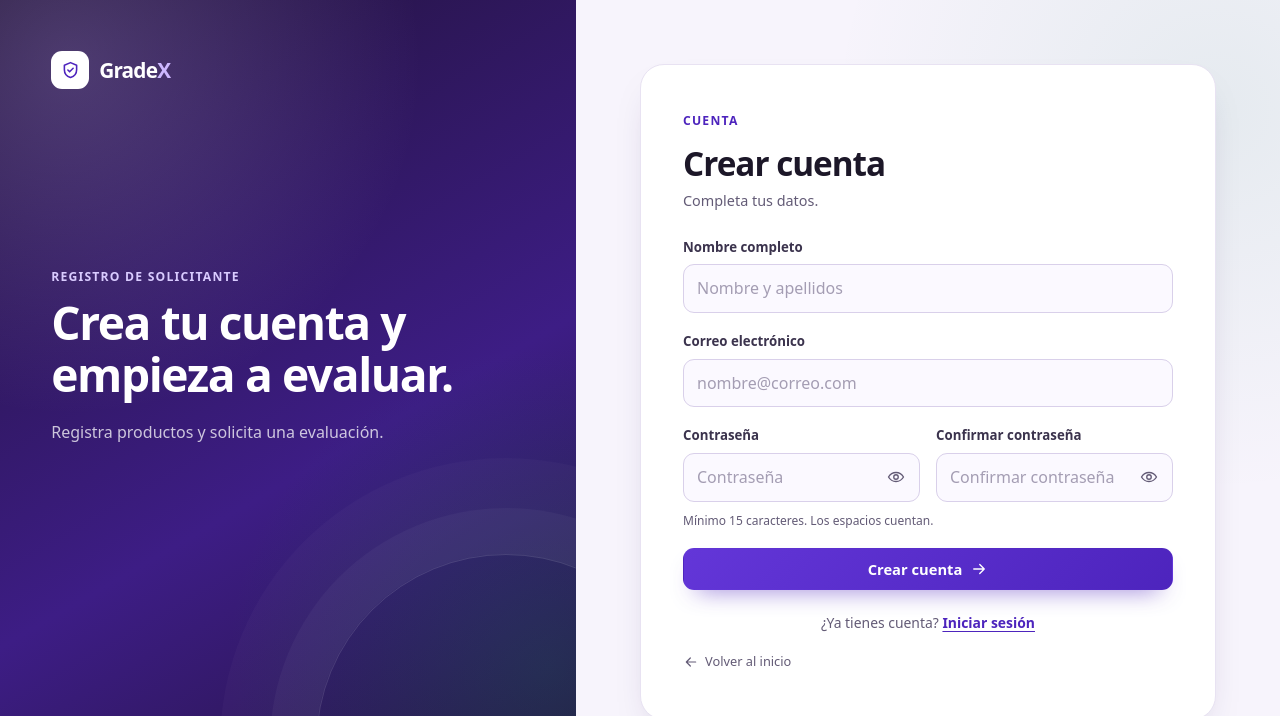
it: RegisterPage › muestra el error de correo duplicado en el campo
In the field labelled "Nombre completo": (928, 289) [683,264,1173,313], type "Cuenta de prueba"
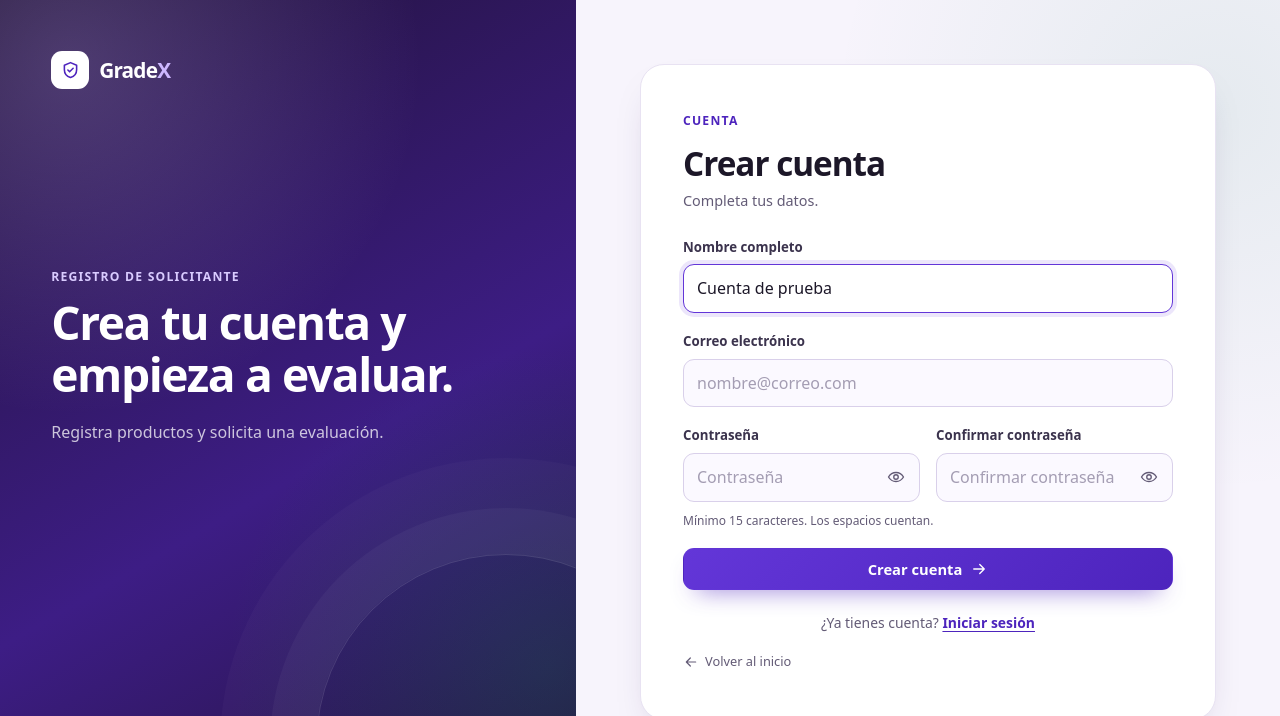
In the field labelled "Correo electrónico": (928, 383) [683,359,1173,408], type "cuenta@example.com"
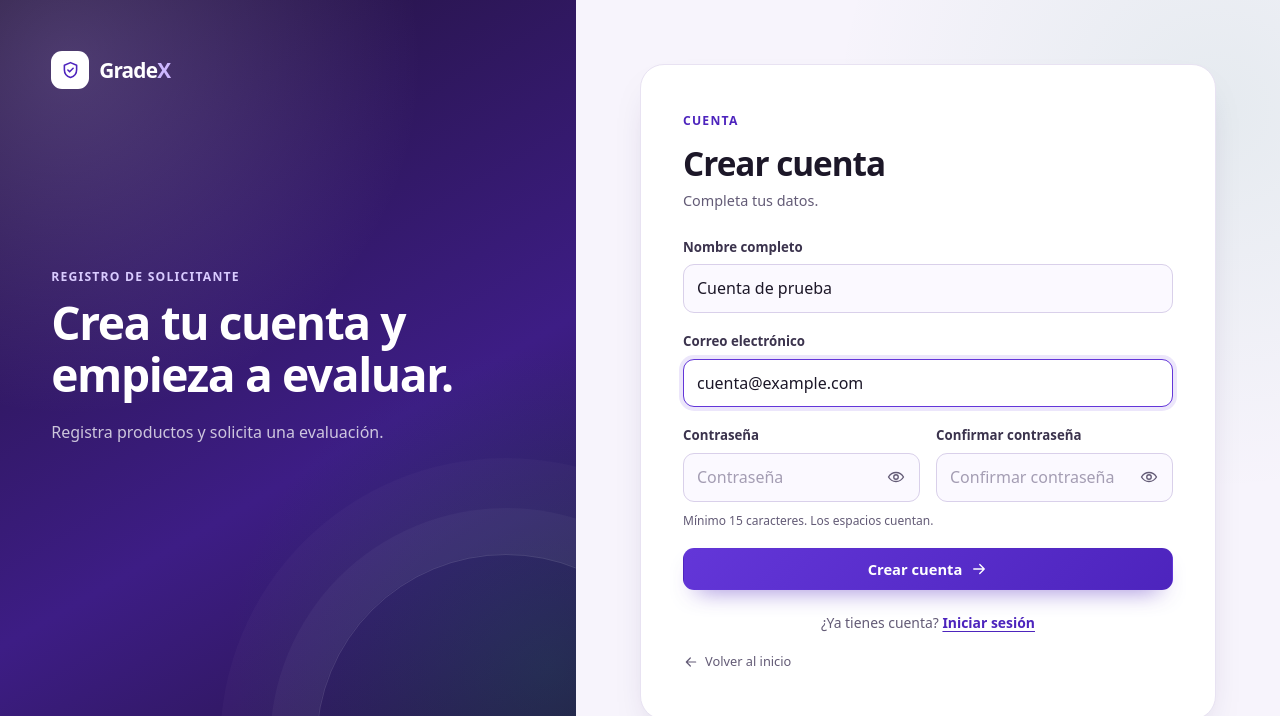
In the password field labelled "Contraseña": (802, 477) [683,453,920,502], type "Contraseña de prueba 2026"
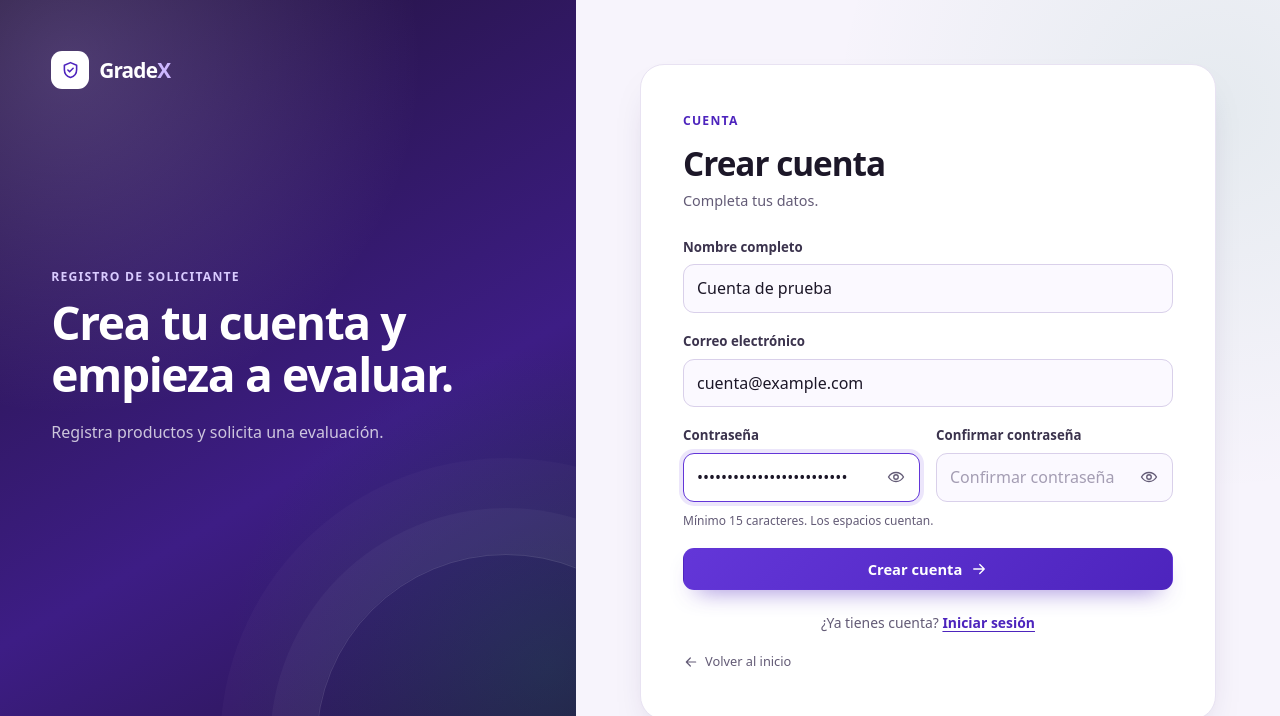
In the password field labelled "Confirmar contraseña": (1054, 477) [936,453,1173,502], type "Contraseña de prueba 2026"
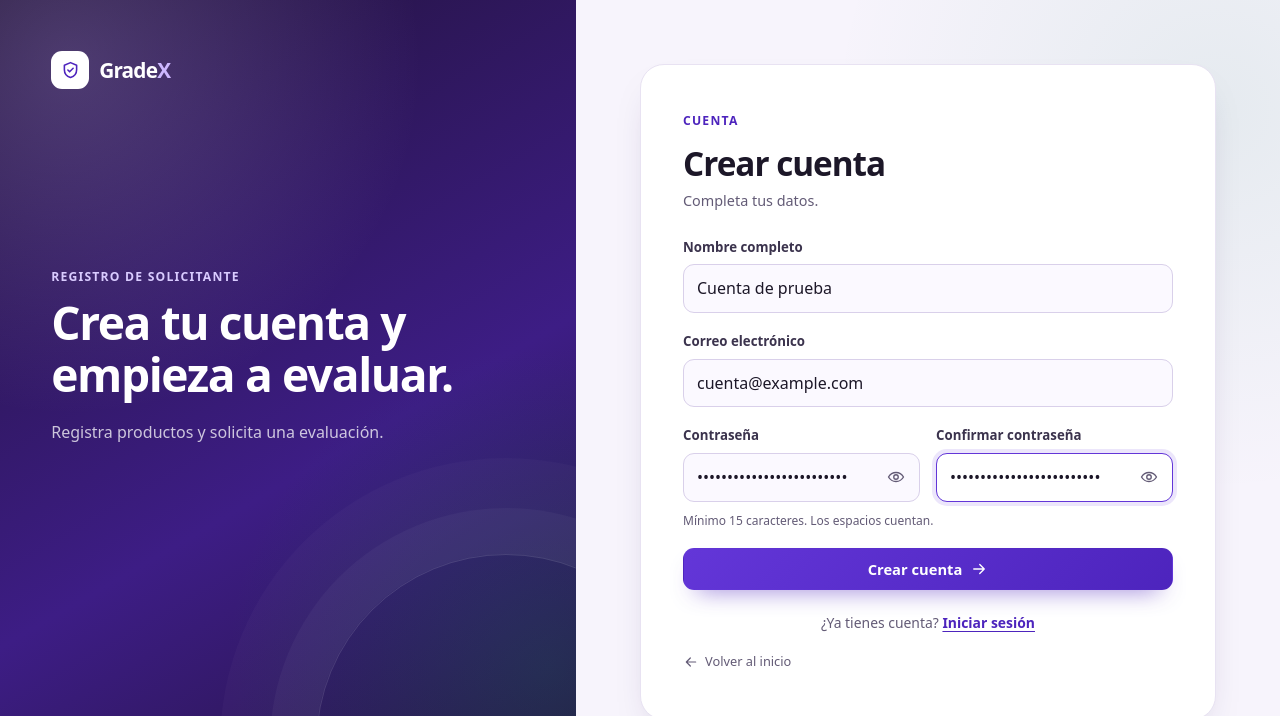
Click the button "Crear cuenta": (928, 569) [683,548,1173,590]
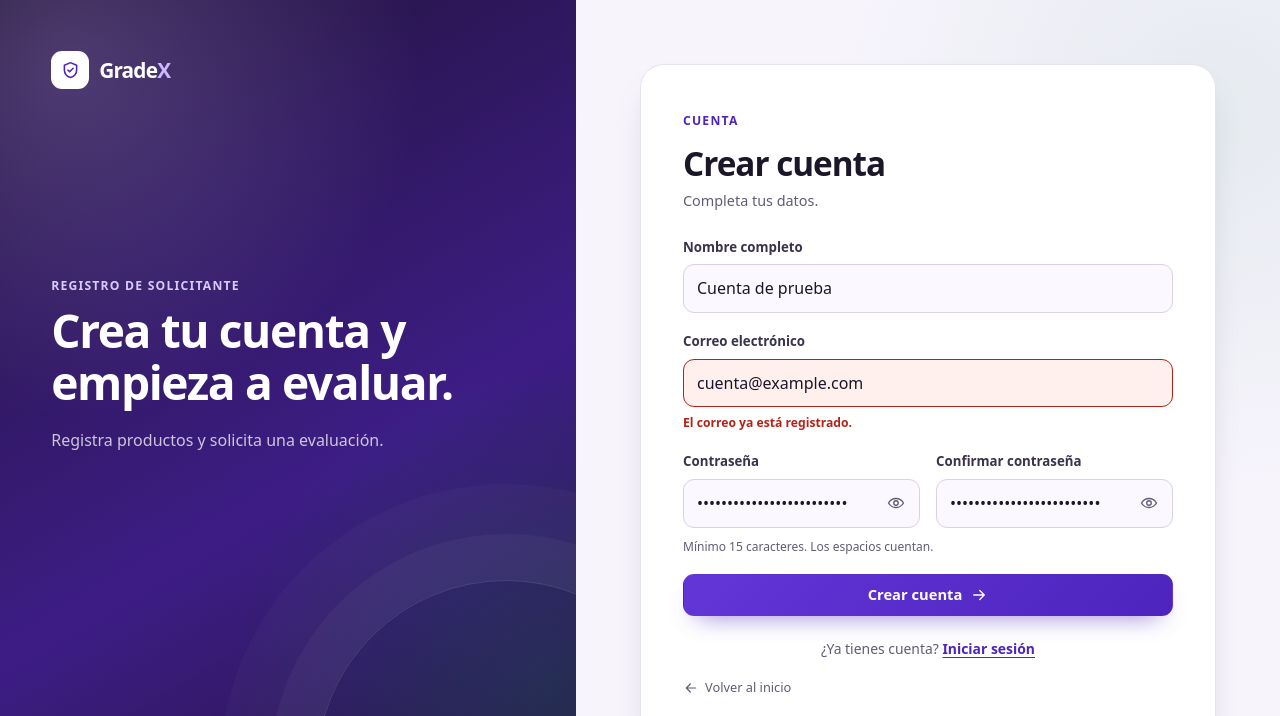
Result: the text "El correo ya está registrado." is shown at [683,414,852,432]
